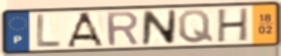A: (65, 11, 106, 48)
H: (215, 6, 251, 44)
L: (34, 13, 62, 49)
N: (140, 9, 178, 46)
Q: (177, 8, 216, 45)
R: (104, 10, 141, 48)
